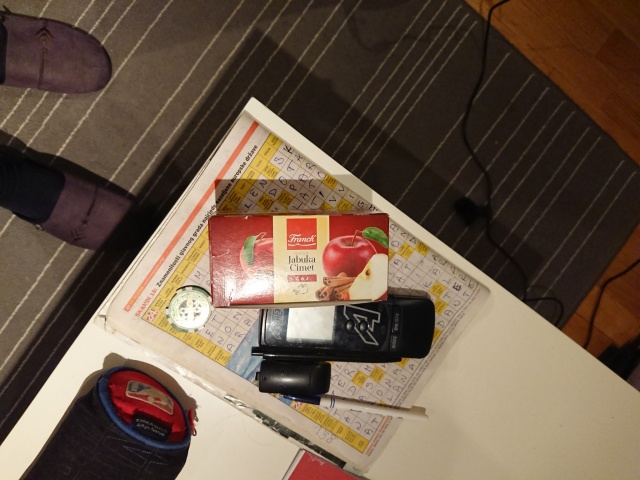Franck Apple Cinnamon Tea 60g: (205, 205, 393, 312)
